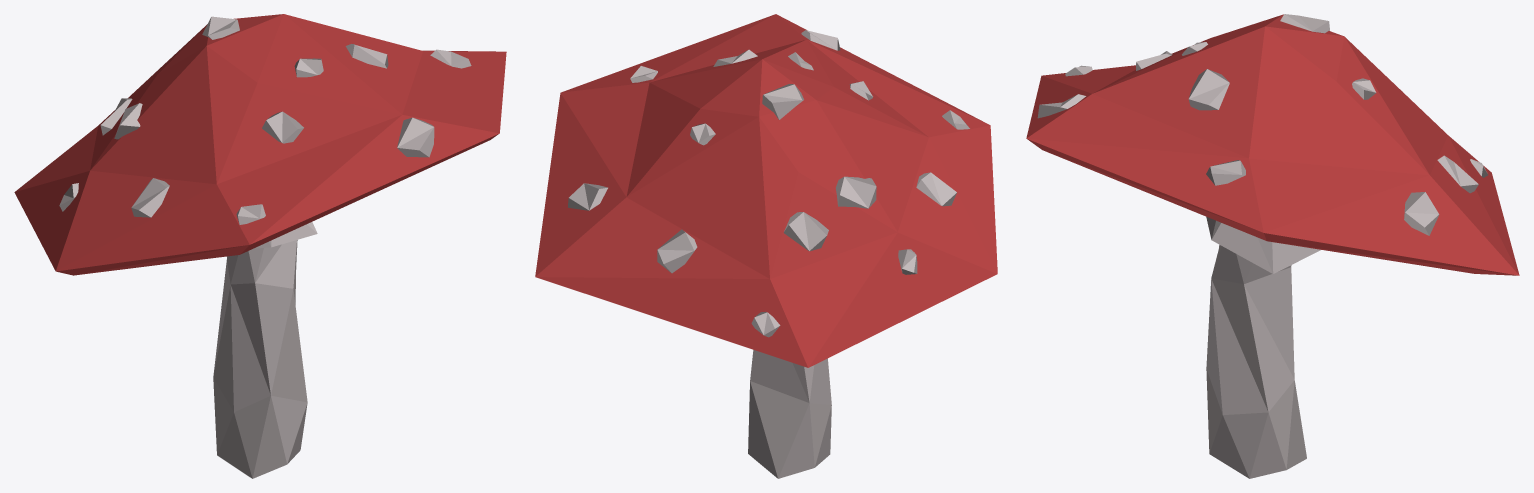
Rendered from SENE_NEEDAMA-001.FBX.
3 renders of one model, left to right at view 1: azimuth 30°, elevation 25°; view 2: azimuth 150°, elevation 25°; view 3: azimuth 270°, elevation 25°, orthographic. The views are drawn at different scales.
Parts seen in each view (by area): view 1: SENE_NEEDAMA-001; view 2: SENE_NEEDAMA-001; view 3: SENE_NEEDAMA-001.
Boxes of the visible parts, box(x1,y1,x2,y2) form: SENE_NEEDAMA-001: box(14, 14, 506, 478); SENE_NEEDAMA-001: box(535, 14, 997, 478); SENE_NEEDAMA-001: box(1026, 14, 1519, 478).
Size of the model in its own units: 909 by 814 by 807.
Materials: 1 (1 with a texture image).
